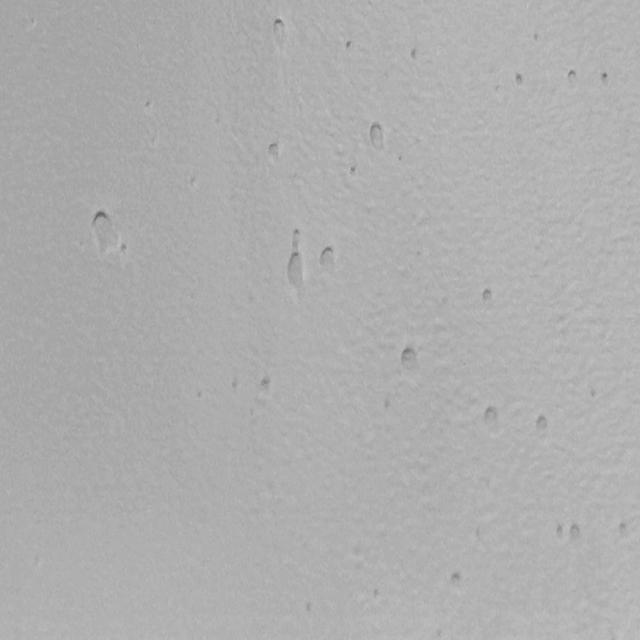pin holes: (82, 202, 121, 272), (283, 248, 308, 288), (398, 344, 424, 377), (367, 120, 391, 154), (317, 244, 341, 274), (482, 402, 505, 431), (268, 16, 290, 44), (532, 412, 553, 440), (256, 373, 277, 398), (264, 140, 284, 165), (478, 284, 498, 308), (447, 569, 469, 590), (565, 65, 583, 89), (288, 225, 306, 249), (512, 70, 531, 92), (615, 518, 634, 540), (568, 522, 586, 545), (551, 521, 570, 542), (406, 43, 424, 64), (598, 71, 613, 91), (229, 376, 243, 394), (302, 600, 316, 618), (119, 241, 132, 260), (342, 39, 357, 55), (532, 30, 546, 44), (141, 97, 154, 112), (347, 164, 359, 180), (189, 176, 199, 194), (384, 398, 393, 411), (436, 628, 444, 640), (197, 389, 203, 401), (374, 588, 379, 600), (398, 154, 404, 164), (591, 389, 597, 398)
